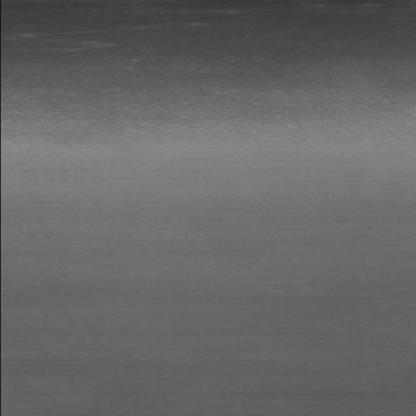silk_spot: (25, 28, 126, 60)
